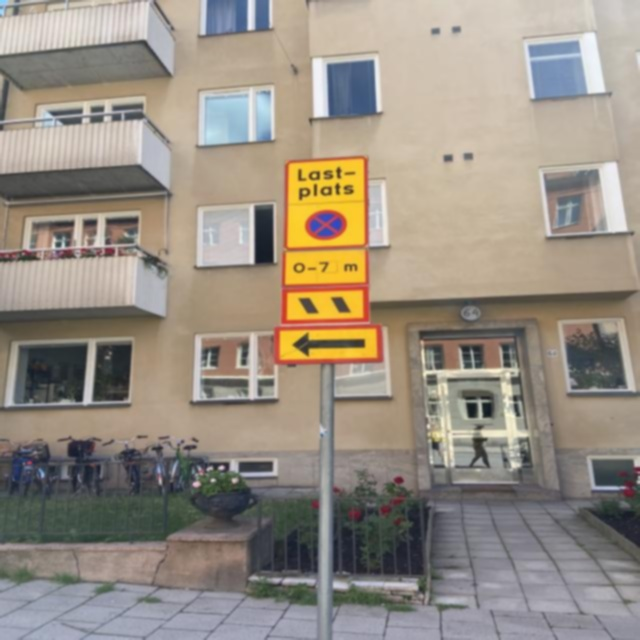lastplats: (284, 155, 368, 249)
